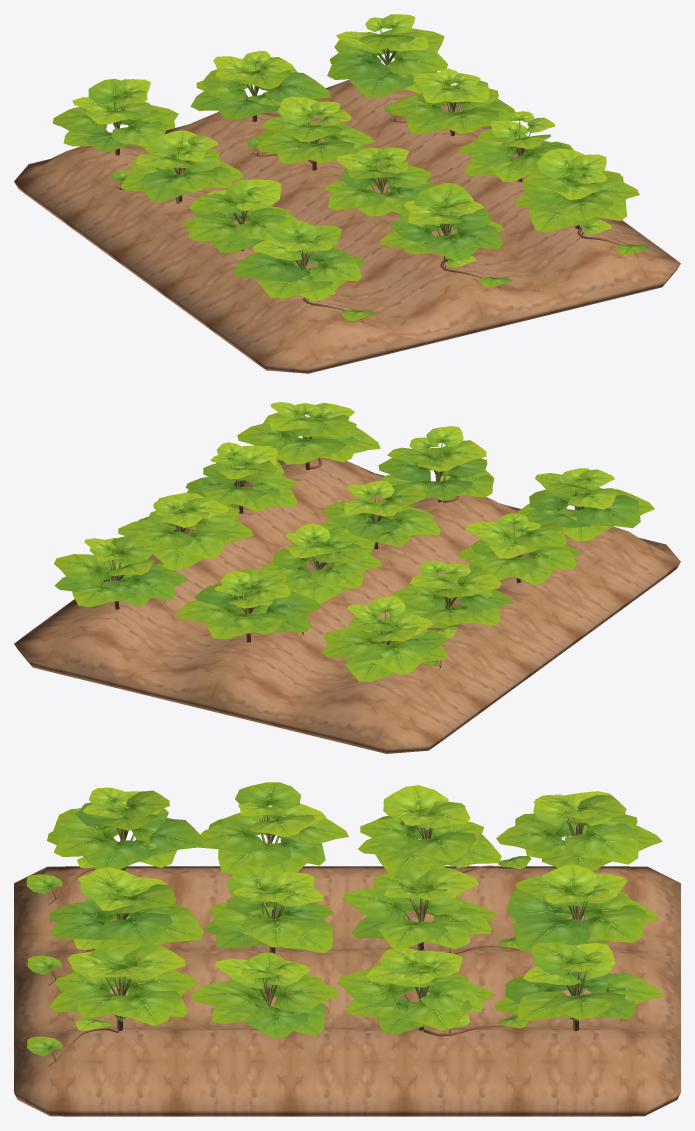
The model's file is cultivated_sweet_potato_LOD1.glb.
The picture shows the model from 3 angles, top to bottom: view 1: azimuth 30°, elevation 25°; view 2: azimuth 150°, elevation 25°; view 3: azimuth 270°, elevation 25°; orthographic projection. The views are drawn at different scales.
Visible parts, largest first — view 1: soil, foliage, stems; view 2: soil, foliage, stems; view 3: foliage, soil, stems.
Part boxes in pixels (x1,y1,x2,y2): soil: [14, 79, 680, 373]; foliage: [53, 14, 649, 320]; stems: [105, 30, 638, 323]; soil: [14, 458, 680, 753]; foliage: [54, 402, 654, 681]; stems: [101, 415, 587, 670]; foliage: [26, 782, 662, 1056]; soil: [14, 866, 680, 1116]; stems: [48, 805, 607, 1065].
Size of the model in its own units: 3.16 by 0.7369 by 3.66.
Materials: 3 (3 with a texture image).
